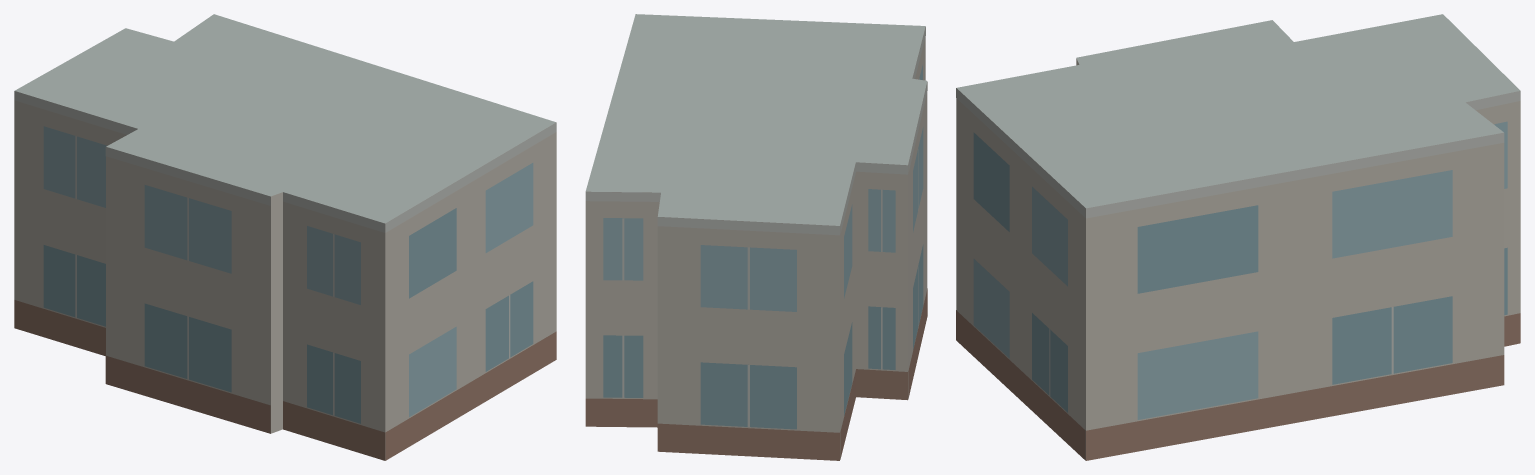
File: survey-upis-32732456.glb
3 views of the same model, side by side, from view 1: azimuth 30°, elevation 25°; view 2: azimuth 150°, elevation 25°; view 3: azimuth 270°, elevation 25° (orthographic). The views are drawn at different scales.
Visible parts, largest first — view 1: survey-upis-32732456.tmp; view 2: survey-upis-32732456.tmp; view 3: survey-upis-32732456.tmp.
Boxes of the visible parts, x1,y1,x2,y2 form: survey-upis-32732456.tmp: (14,14,556,460); survey-upis-32732456.tmp: (585,14,927,460); survey-upis-32732456.tmp: (956,14,1520,460).
Size of the model in its own units: 10.08 by 6.1 by 12.37.
